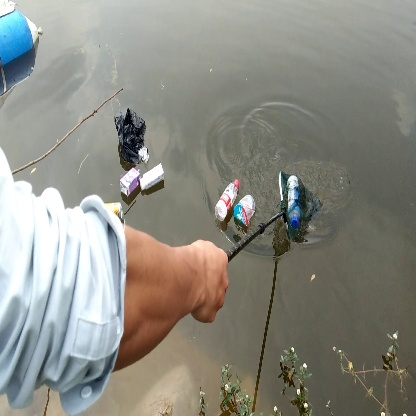bottle: (211, 178, 242, 225), (285, 172, 306, 230)
milk-box: (118, 165, 141, 202)
plastic-bag: (113, 105, 153, 164)
